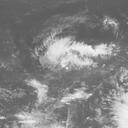cyclone: (42, 36, 94, 72)
